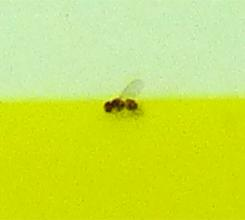Brachycera: (100, 100, 145, 120)
